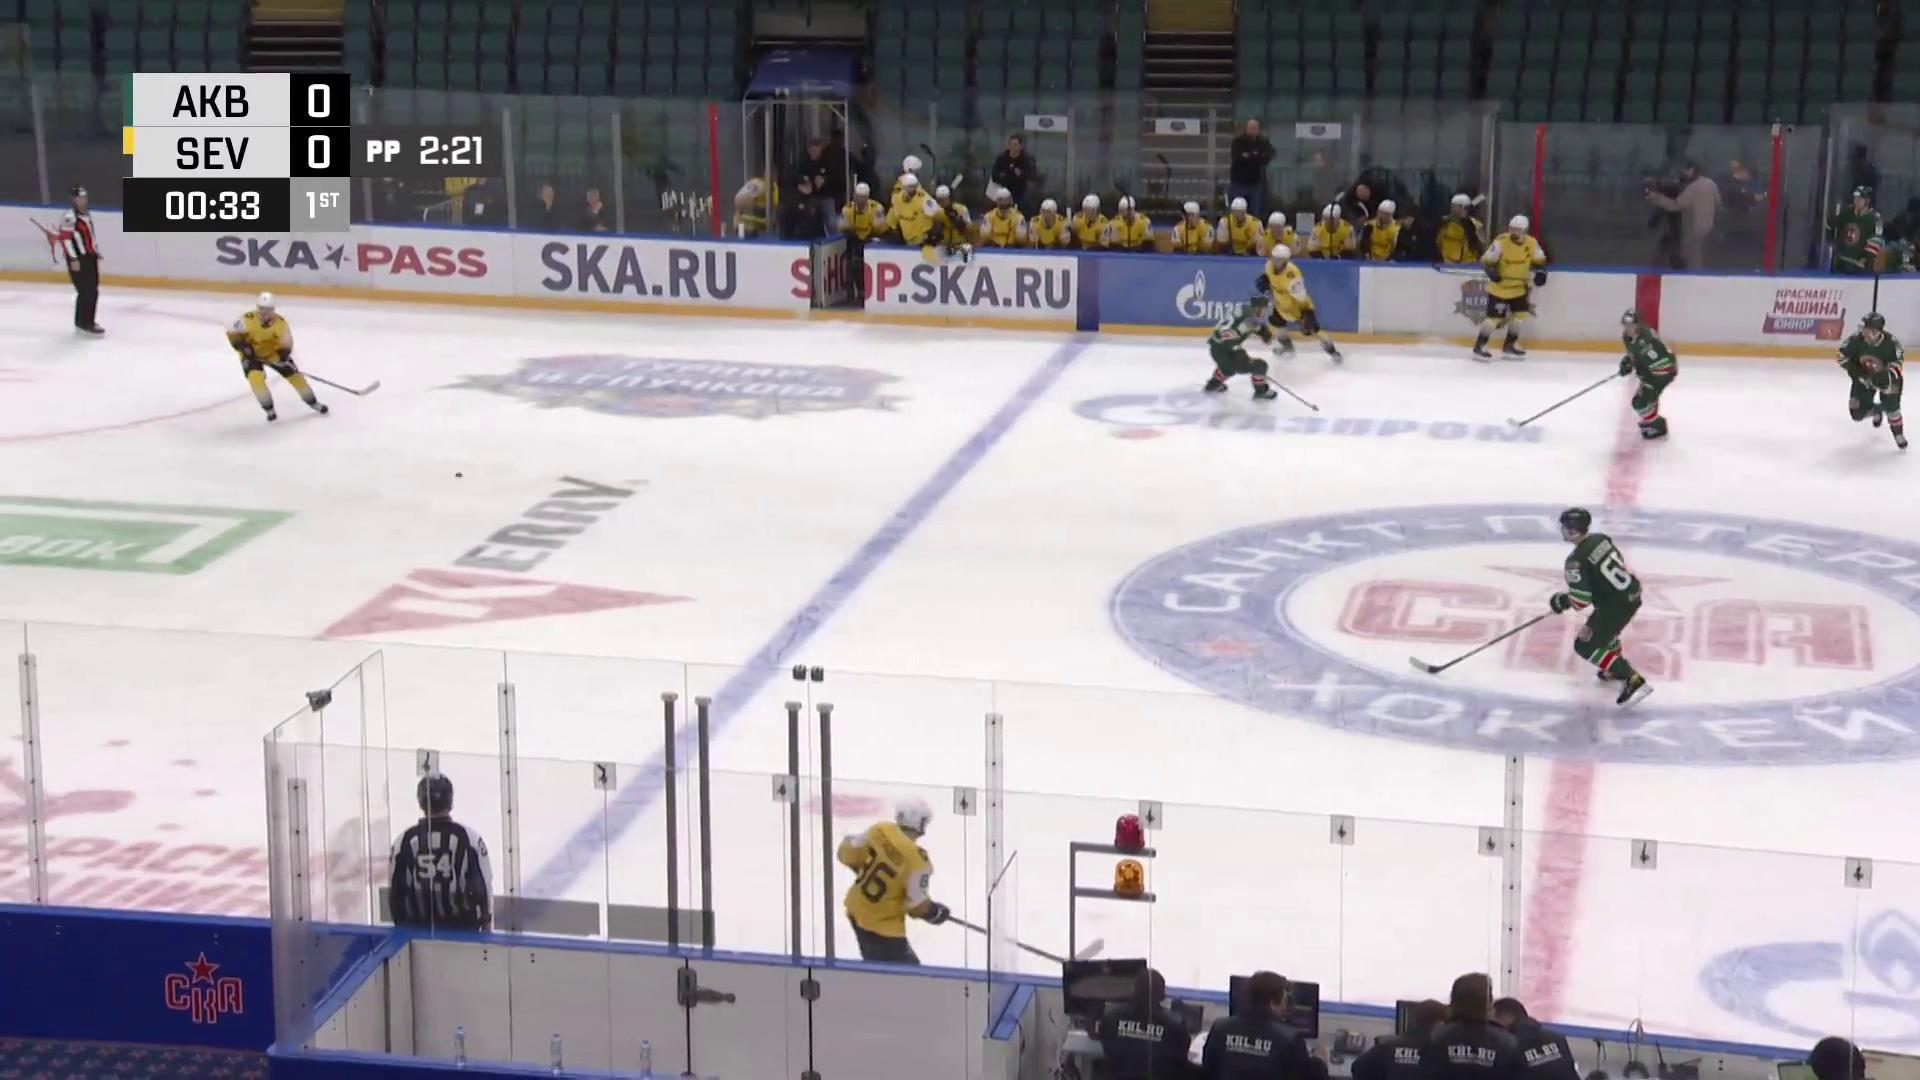ball: (454, 472, 463, 479)
